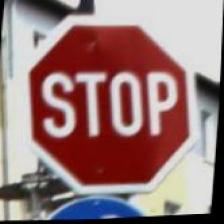Stop: (9, 7, 208, 208)
